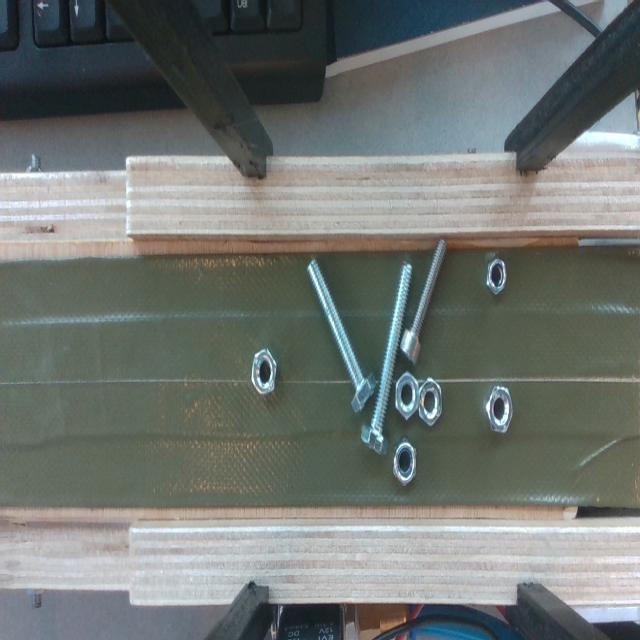Bolt: (301, 246, 386, 420), (354, 250, 419, 457), (386, 226, 460, 370)
Nut: (389, 363, 427, 425), (416, 372, 453, 434), (483, 380, 522, 438), (244, 343, 283, 397), (386, 435, 422, 490), (481, 246, 513, 300)
